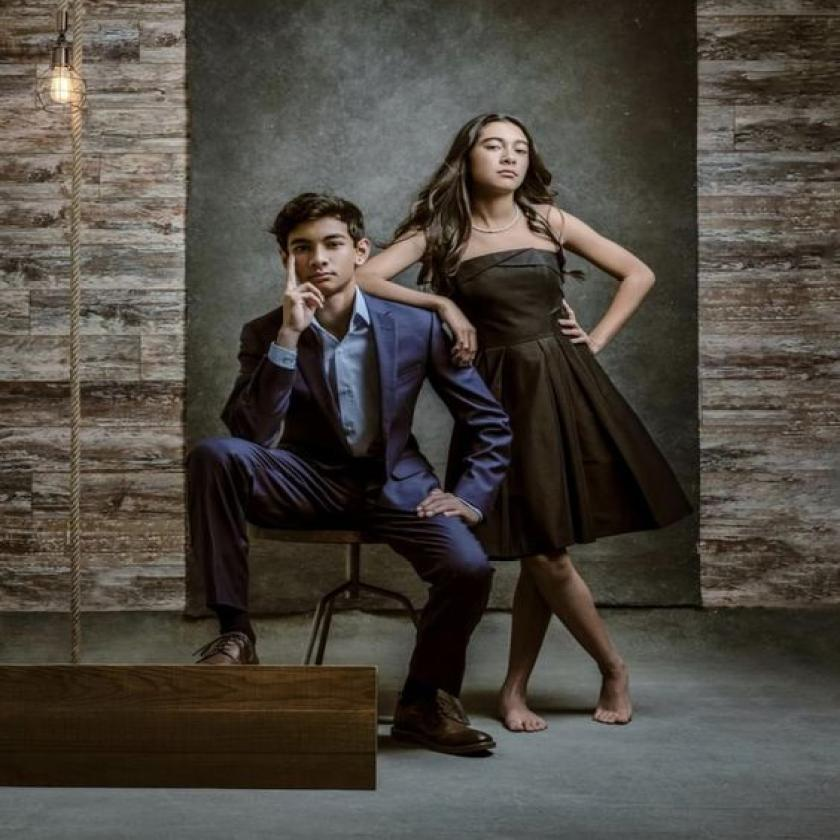Sin_casco: (268, 190, 375, 311), (462, 109, 541, 202)
